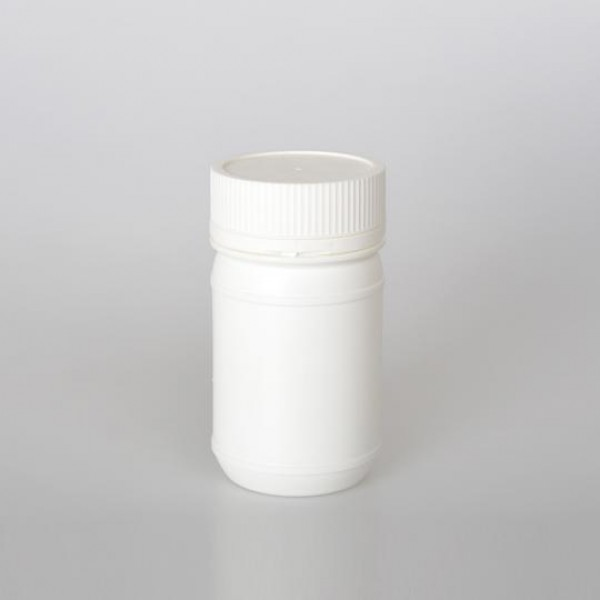medicinejar: (191, 142, 404, 505)
